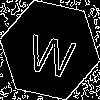W: (25, 25, 79, 79)
